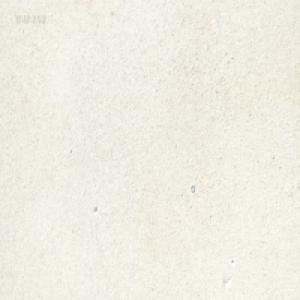Washer: (190, 183, 195, 193)
